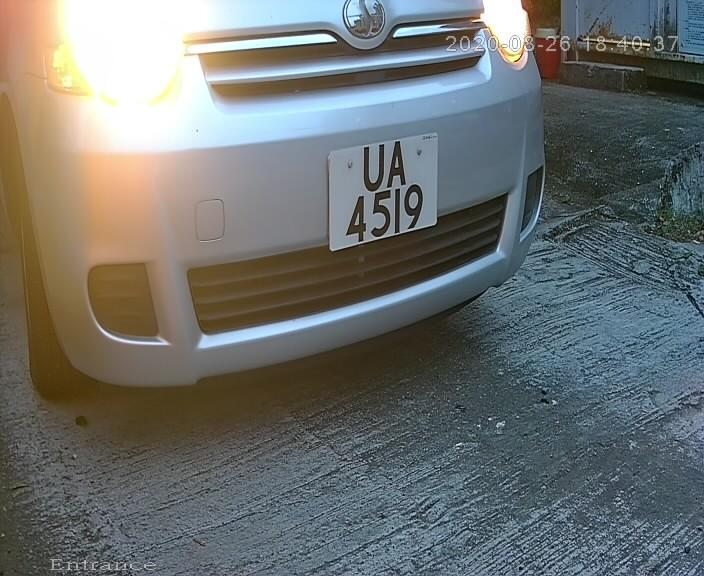License Plate: (318, 124, 453, 260)
